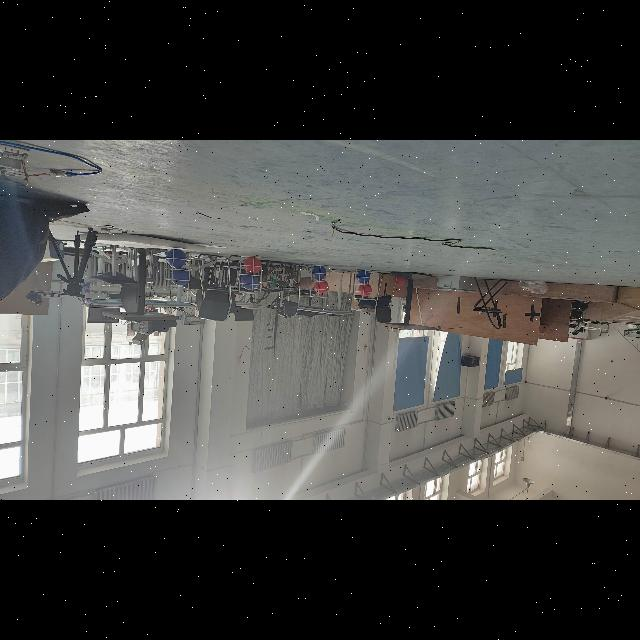B: (167, 247, 187, 267), (171, 268, 189, 286), (240, 272, 258, 290), (312, 266, 326, 280), (356, 270, 369, 282)
R: (244, 256, 262, 274), (314, 280, 328, 294), (358, 284, 372, 296)
S: (164, 242, 193, 292), (237, 254, 265, 296), (308, 262, 332, 300), (352, 267, 373, 301)
